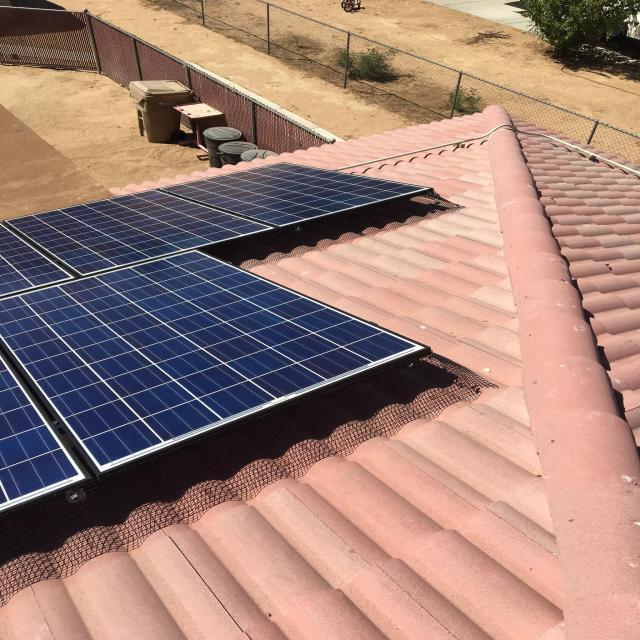clean-solar-panel: (0, 158, 437, 523)
